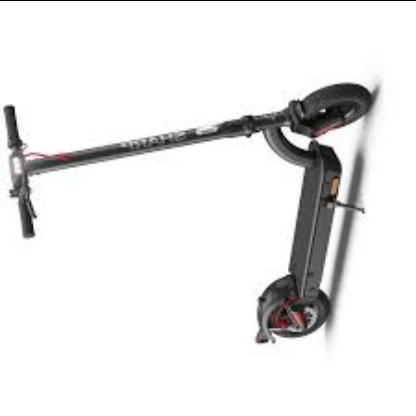bike: (4, 81, 376, 346)
